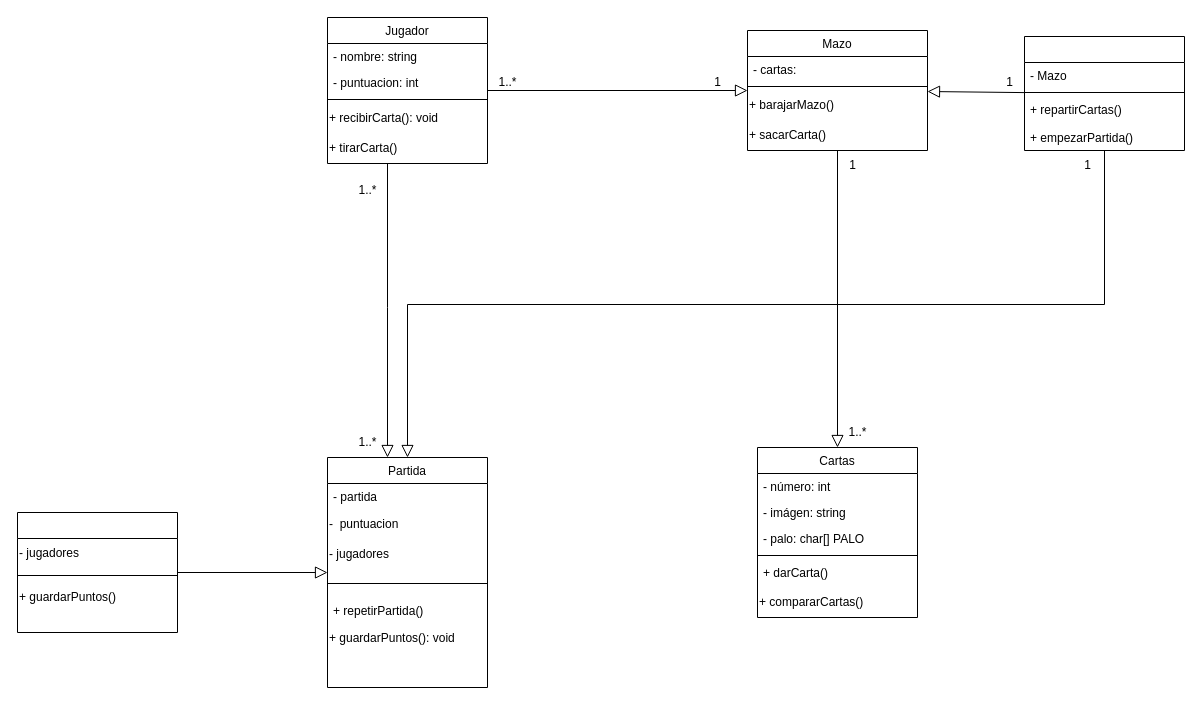
Some shapes in this 1202 by 705 pixel diagram are drawn without their labels. Here are the shapes that lost their labels. From the top down, the box of each, then its label:
(1024, 36, 1184, 150): Croupier
(16, 512, 178, 632): Adminstrador
